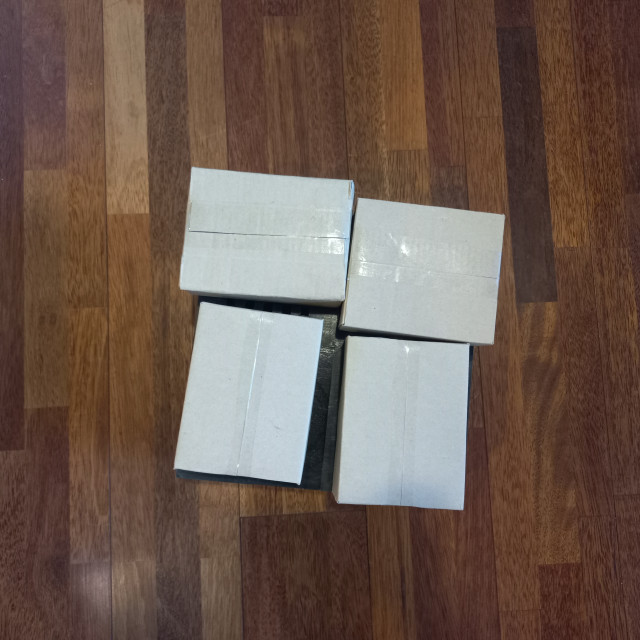box: (171, 299, 326, 489), (340, 196, 508, 346), (333, 335, 473, 514), (177, 165, 354, 305)
